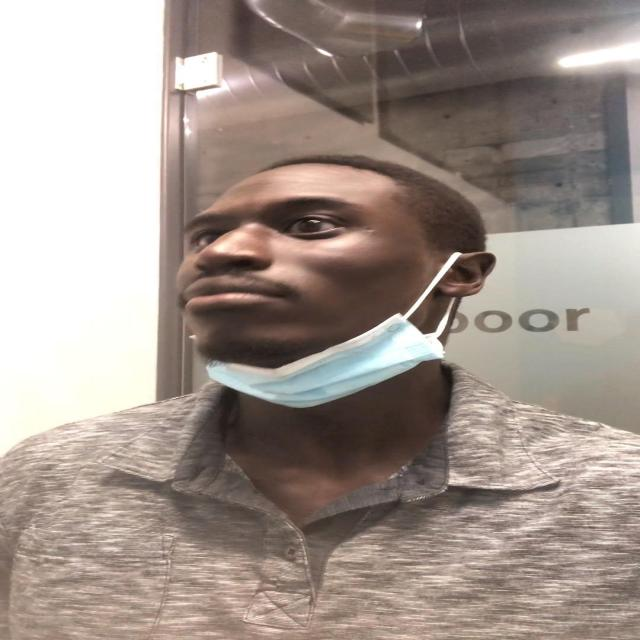face: (177, 168, 471, 364)
